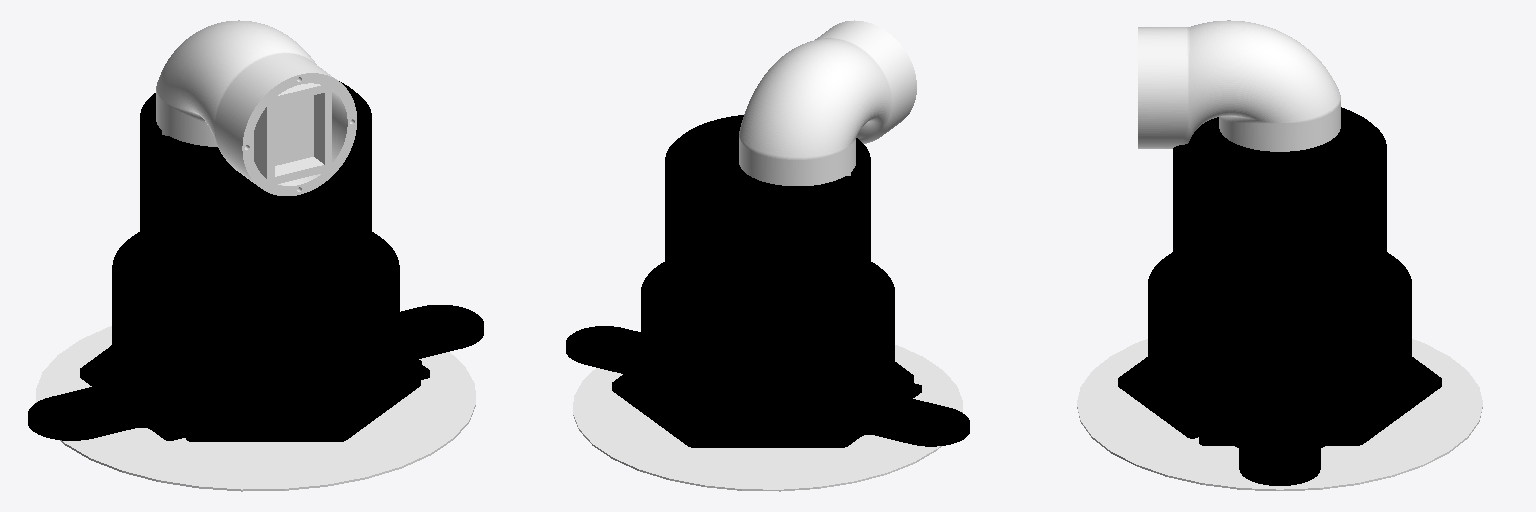
robot.urdf — node00:
<?xml version="1.0"?>
<robot  name="node00" >
 <material  name="blue" >
  <color  rgba="0 0 0.8 1.0" />
 </material>
 <material  name="red" >
  <color  rgba="0.8 0 0 1.0" />
 </material>
 <material  name="white" >
  <color  rgba="1.0 1.0 1.0 0.4" />
 </material>
 <material  name="black" >
  <color  rgba="0.0 0.0 0.0 1.0" />
 </material>
 <link  name="root_mod" >
  <visual >
   <origin  xyz="0 0 0"  rpy="0 0 0" />
   <material  name="white" />
   <geometry >
    <cylinder  length="0.001"  radius="0.1" />
   </geometry>
  </visual>
 </link>
 <link  name="baseMod_1" >
  <inertial >
   <origin  xyz="0.0 1.2212453270876722e-17 0.055"  rpy="1.5707963267948963 0.0 0.0" />
   <mass  value="1.245" />
   <inertia  iyz="1.5e-05"  ixx="0.002797"  ixz="-0.0"  ixy="-0.0"  izz="0.003107"  iyy="0.002417" />
  </inertial>
  <visual >
   <origin  xyz="0.0 1.2212453270876722e-17 0.055"  rpy="1.5707963267948963 0.0 0.0" />
   <material  name="black" />
   <geometry >
    <mesh  filename="./meshes/base-big-360.obj"  scale="0.001 0.001 0.001" />
   </geometry>
  </visual>
 </link>
 <joint  name="joint_1_fixed"  type="fixed" >
  <parent  link="root_mod" />
  <child  link="baseMod_1" />
  <origin  xyz="0.0 0.0 0.01"  rpy="0 0 0" />
  <limit  velocity="10"  upper="3.14"  effort="50"  lower="-3.14" />
 </joint>
 <link  name="connMod_2" >
  <inertial >
   <origin  xyz="0.0 4.440892098500626e-18 0.02"  rpy="1.5707963267948963 0.0 0.0" />
   <mass  value="0.263" />
   <inertia  iyz="-1.5e-05"  ixx="0.000226"  ixz="-0.0"  ixy="0.0"  izz="0.000125"  iyy="0.00023" />
  </inertial>
  <visual >
   <origin  xyz="0.0 4.440892098500626e-18 0.02"  rpy="1.5707963267948963 0.0 0.0" />
   <material  name="white" />
   <geometry >
    <mesh  filename="./meshes/90-connector.obj"  scale="0.001 0.001 0.001" />
   </geometry>
  </visual>
 </link>
 <joint  name="joint_2_revolute"  type="revolute" >
  <parent  link="baseMod_1" />
  <child  link="connMod_2" />
  <origin  xyz="-0.0175 2.964295475749168e-17 0.1335"  rpy="0 0 0" />
  <axis  xyz="0.0 0.0 1.0" />
  <limit  effort="50"  upper="3.14"  velocity="10"  lower="-3.14" />
 </joint>
 <transmission  name="act_joint_2_revolute" >
  <type  xmltext="SimpleTransmission" >
   SimpleTransmission
  </type>
  <actuator  name="trans_joint_2_revolute" >
   <mechanicalreduction  xmltext="1" >
    1
   </mechanicalreduction>
  </actuator>
  <joint  name="joint_2_revolute" />
 </transmission>
 <link  name="eef" />
 <joint  name="eef_joint"  type="fixed" >
  <parent  link="connMod_2" />
  <child  link="eef" />
  <origin  xyz="0.0 -0.05999999999999999 0.020000000000000014"  rpy="0 0 0" />
  <axis  xyz="0.0 -1.0 0.0" />
  <limit  velocity="10"  upper="3.14"  effort="50"  lower="-3.14" />
 </joint>
</robot>

--- Facts derived from the render (not from the file) ---
The picture shows the robot from 3 angles, left to right: view 1: azimuth 30°, elevation 25°; view 2: azimuth 150°, elevation 25°; view 3: azimuth 270°, elevation 25°; orthographic projection.
Model node00 with 4 links and 3 joints (1 revolute, 2 fixed), rooted at root_mod, posed every joint at zero.
Links seen in each view (by area): view 1: baseMod_1, connMod_2, root_mod; view 2: baseMod_1, connMod_2, root_mod; view 3: baseMod_1, connMod_2, root_mod.
Link boxes in pixels (x1,y1,x2,y2): baseMod_1: (28, 81, 483, 441); connMod_2: (156, 20, 356, 195); root_mod: (36, 326, 475, 491); baseMod_1: (566, 115, 969, 447); connMod_2: (739, 20, 916, 185); root_mod: (573, 345, 962, 491); baseMod_1: (1118, 107, 1441, 485); connMod_2: (1138, 20, 1340, 151); root_mod: (1077, 339, 1482, 490).
Bounding box of the posed robot: 0.2326 × 0.2 × 0.1975 m (x, y, z).
2 mesh visuals loaded from 2 distinct referenced files (2 OBJ).